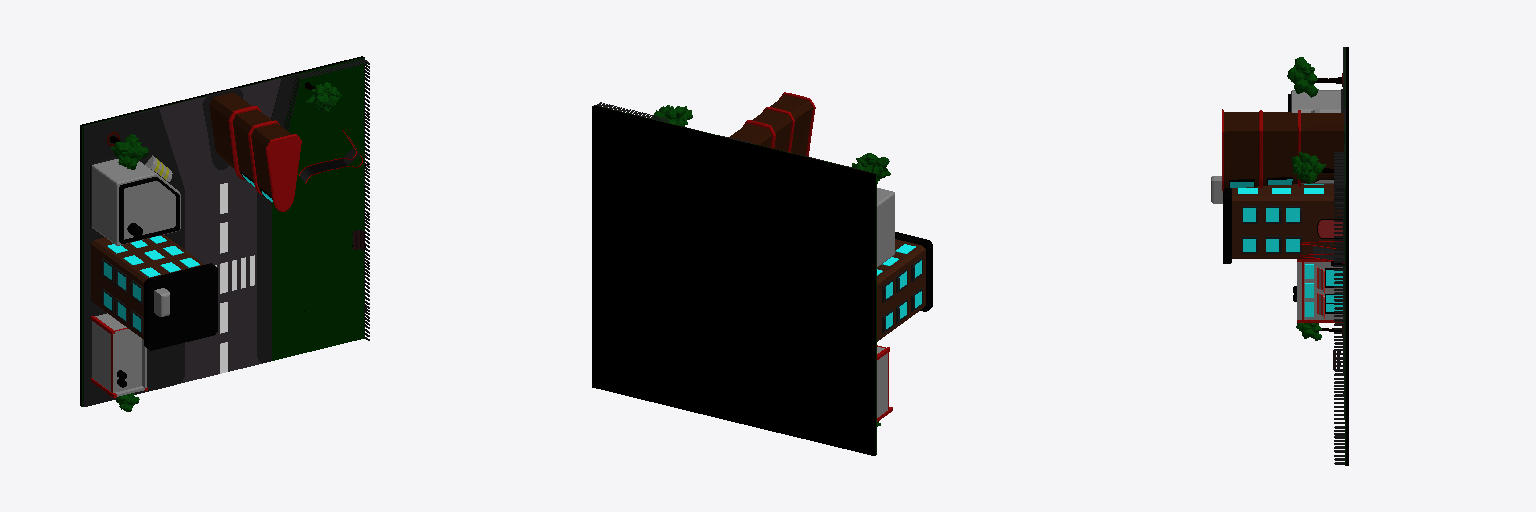
3 renders of one model, left to right at view 1: azimuth 30°, elevation 25°; view 2: azimuth 150°, elevation 25°; view 3: azimuth 270°, elevation 25°, orthographic.
Visible parts, largest first — view 1: Object.8, Object.2, Object.14, Object.21, Object.26, Object.4, Object.27, Object.16, Object.12, Object.3, Object.29, Object.23 (+6 smaller); view 2: Object.9, Object.4, Object.27, Object.21, Object.29, Object.26, Object.28, Object.3, Object.16, Object.41, Object.43; view 3: Object.4, Object.27, Object.29, Object.9, Object.21, Object.16, Object.41, Object.20, Object.26, Object.43, Object.28, Object.3.
Part boxes in pixels (left/top/right/bottom): Object.8: left=82, top=57, right=364, bottom=406; Object.2: left=140, top=74, right=296, bottom=383; Object.14: left=83, top=108, right=184, bottom=406; Object.21: left=92, top=155, right=180, bottom=245; Object.26: left=144, top=263, right=217, bottom=350; Object.4: left=209, top=92, right=292, bottom=195; Object.27: left=91, top=235, right=204, bottom=339; Object.16: left=92, top=313, right=146, bottom=396; Object.12: left=257, top=74, right=297, bottom=362; Object.3: left=228, top=106, right=301, bottom=211; Object.29: left=104, top=236, right=199, bottom=331; Object.23: left=119, top=177, right=179, bottom=243; Object.9: left=592, top=105, right=875, bottom=455; Object.4: left=729, top=95, right=812, bottom=155; Object.27: left=877, top=239, right=925, bottom=341; Object.21: left=877, top=188, right=894, bottom=266; Object.29: left=877, top=244, right=921, bottom=328; Object.26: left=895, top=232, right=932, bottom=311; Object.28: left=882, top=257, right=922, bottom=332; Object.3: left=743, top=92, right=815, bottom=156; Object.16: left=877, top=347, right=887, bottom=417; Object.41: left=852, top=153, right=890, bottom=183; Object.43: left=654, top=105, right=692, bottom=126; Object.4: left=1224, top=112, right=1343, bottom=188; Object.27: left=1232, top=184, right=1342, bottom=258; Object.29: left=1238, top=184, right=1323, bottom=251; Object.9: left=1346, top=47, right=1348, bottom=465; Object.21: left=1291, top=90, right=1340, bottom=183; Object.16: left=1297, top=262, right=1342, bottom=319; Object.41: left=1287, top=57, right=1318, bottom=97; Object.20: left=1305, top=264, right=1342, bottom=316; Object.26: left=1223, top=188, right=1342, bottom=263; Object.43: left=1291, top=151, right=1325, bottom=183; Object.28: left=1242, top=206, right=1301, bottom=253; Object.3: left=1222, top=109, right=1300, bottom=190.
Bounding box in the file's own units: 22.5 × 21.42 × 9.52.
Materials: 20 (1 with a texture image).